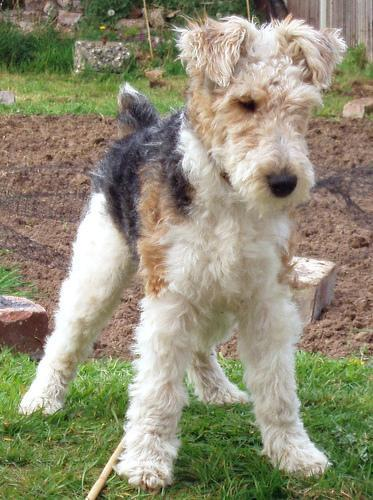wire-haired_fox_terrier: (15, 8, 347, 493)
